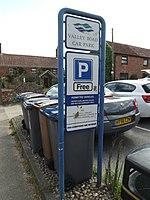Parking Lot Cars: (71, 51, 99, 94)
